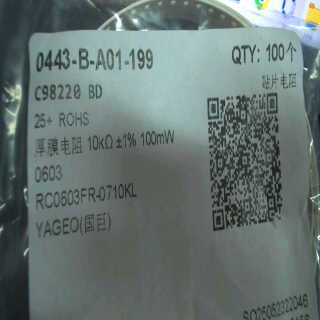10kR: (86, 131, 114, 154)
